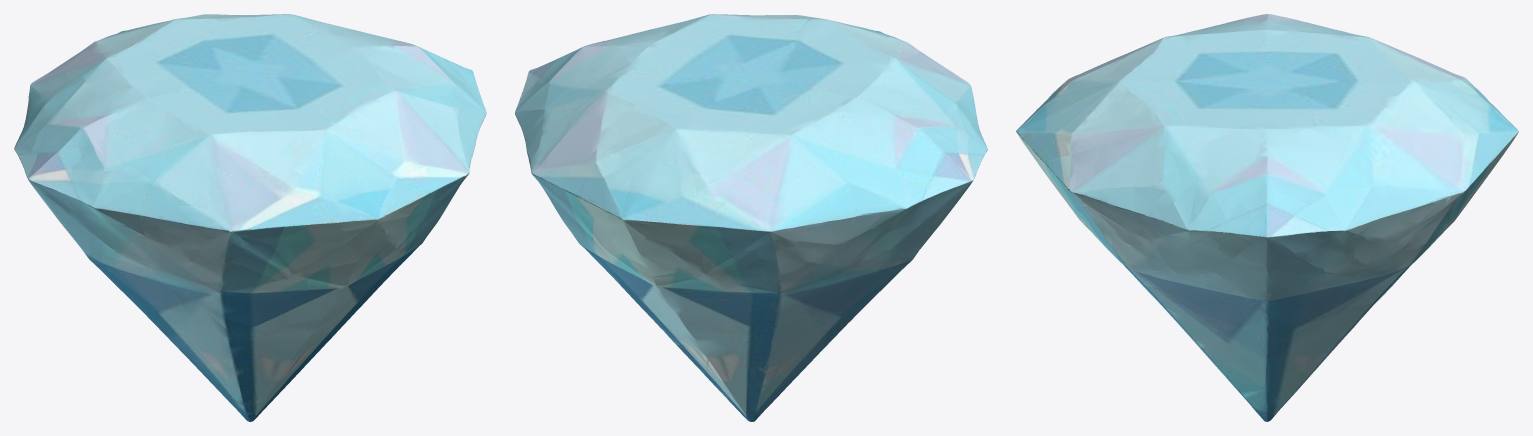
The model's file is diamond.glb.
The picture shows the model from 3 angles, left to right: view 1: azimuth 30°, elevation 25°; view 2: azimuth 150°, elevation 25°; view 3: azimuth 270°, elevation 25°; orthographic projection. The views are drawn at different scales.
Bounding box in the file's own units: 1.9 × 1.43 × 1.9.
1 material, 1 textured.
